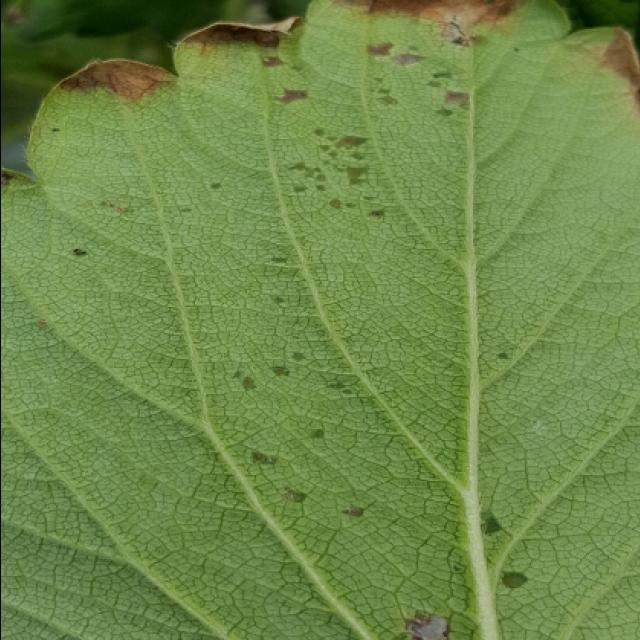Angular Leafspot: (42, 0, 640, 638)
